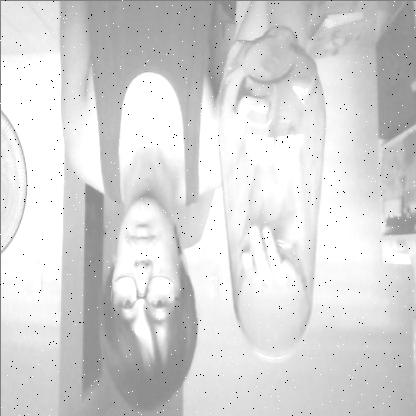Plastic Bottle: (210, 31, 326, 357)
